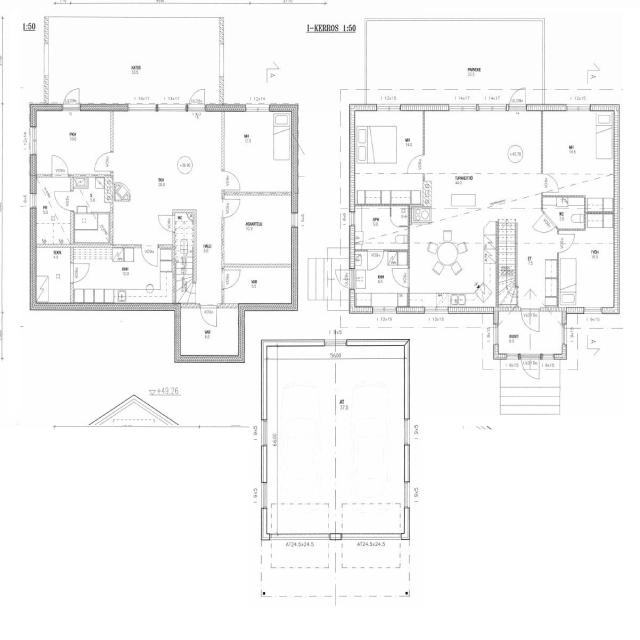door: (507, 84, 528, 110), (391, 263, 411, 290), (139, 243, 160, 268), (187, 85, 208, 110), (259, 418, 277, 447), (92, 148, 113, 172), (61, 85, 82, 109), (199, 302, 219, 327), (521, 354, 540, 380), (540, 170, 561, 193), (556, 230, 576, 254), (50, 152, 70, 176), (222, 265, 242, 289), (53, 188, 73, 212), (520, 308, 540, 332), (402, 481, 419, 509), (70, 261, 91, 283), (222, 168, 243, 190), (260, 482, 278, 507), (222, 196, 242, 218), (406, 152, 426, 174), (366, 248, 384, 272), (334, 266, 352, 288), (156, 212, 174, 232), (531, 212, 548, 233), (400, 420, 413, 447)
window: (258, 418, 276, 447), (217, 40, 228, 80), (156, 102, 188, 115), (126, 101, 158, 114), (28, 122, 39, 157), (42, 42, 52, 78), (243, 102, 271, 114), (448, 102, 478, 113), (477, 102, 507, 113), (401, 417, 412, 447), (565, 102, 592, 114), (258, 480, 269, 509), (371, 304, 398, 315), (421, 305, 450, 315), (29, 189, 39, 212), (492, 321, 501, 346), (376, 103, 400, 112), (289, 210, 300, 229), (582, 304, 604, 313), (502, 352, 520, 361), (347, 209, 356, 227), (541, 352, 556, 361)
zone: (265, 349, 407, 522), (110, 110, 219, 210), (422, 109, 544, 178), (351, 107, 426, 203), (410, 228, 496, 307), (541, 109, 616, 194), (71, 246, 175, 306), (222, 109, 293, 193), (221, 194, 295, 266), (36, 108, 110, 176), (558, 226, 617, 310), (352, 252, 410, 310), (518, 231, 558, 307), (222, 265, 294, 307), (349, 205, 410, 250), (35, 176, 72, 244), (34, 244, 72, 306), (541, 195, 586, 231), (534, 308, 565, 358), (71, 176, 111, 213), (72, 212, 111, 244), (498, 273, 516, 305), (544, 276, 558, 306), (331, 536, 343, 568)
